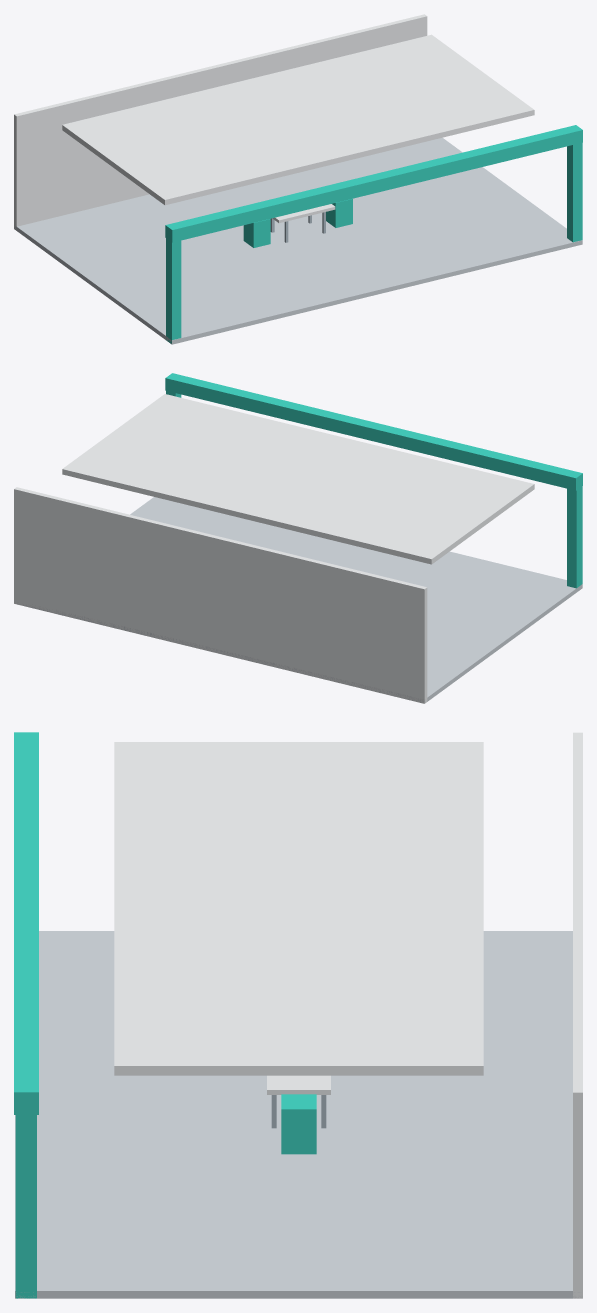
3 renders of one model, top to bottom at view 1: azimuth 30°, elevation 25°; view 2: azimuth 150°, elevation 25°; view 3: azimuth 270°, elevation 25°, orthographic. The views are drawn at different scales.
Visible parts, largest first — view 1: Exhibition Booth Concept; view 2: Exhibition Booth Concept; view 3: Exhibition Booth Concept.
Part boxes in pixels (x1,y1,x2,y2): Exhibition Booth Concept: (14,14,582,344); Exhibition Booth Concept: (14,373,582,703); Exhibition Booth Concept: (14,732,582,1298).
Size of the model in its own units: 12 by 3.34 by 8.01.
